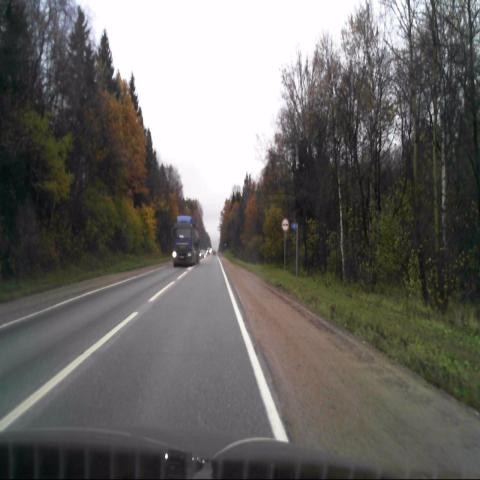3_20: (281, 217, 289, 232)
